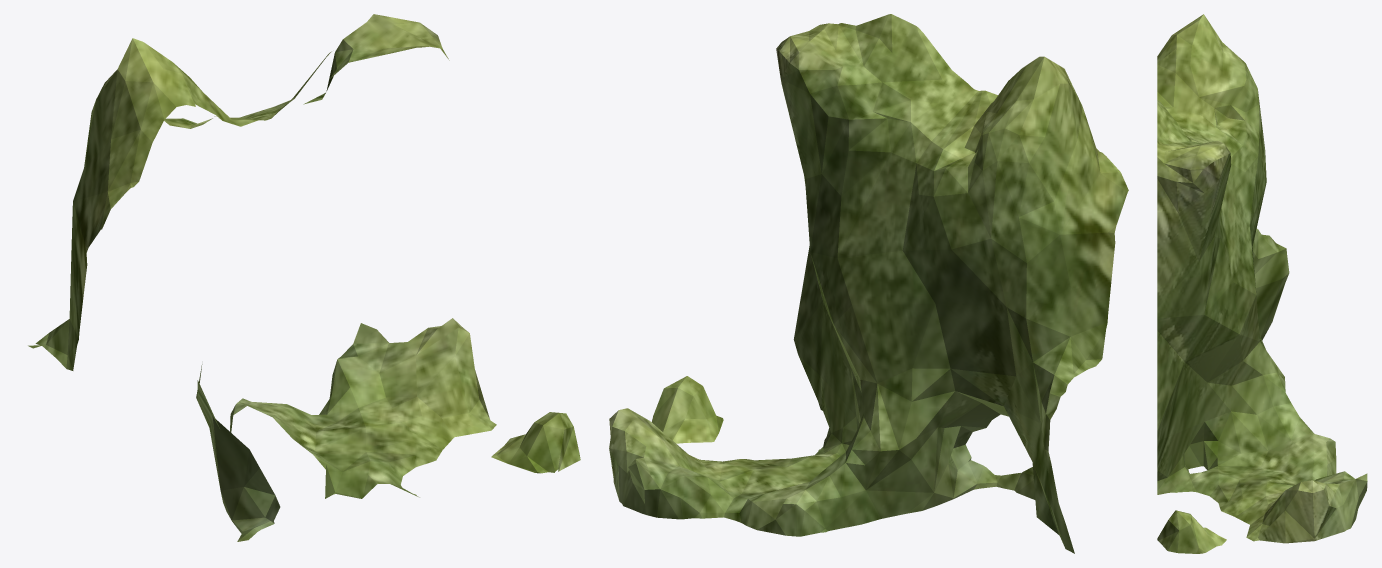
3 renders of one model, left to right at view 1: azimuth 30°, elevation 25°; view 2: azimuth 150°, elevation 25°; view 3: azimuth 270°, elevation 25°, orthographic. The views are drawn at different scales.
Size of the model in its own units: 2.43 by 2.39 by 1.19.
Materials: 2 (2 with a texture image).
